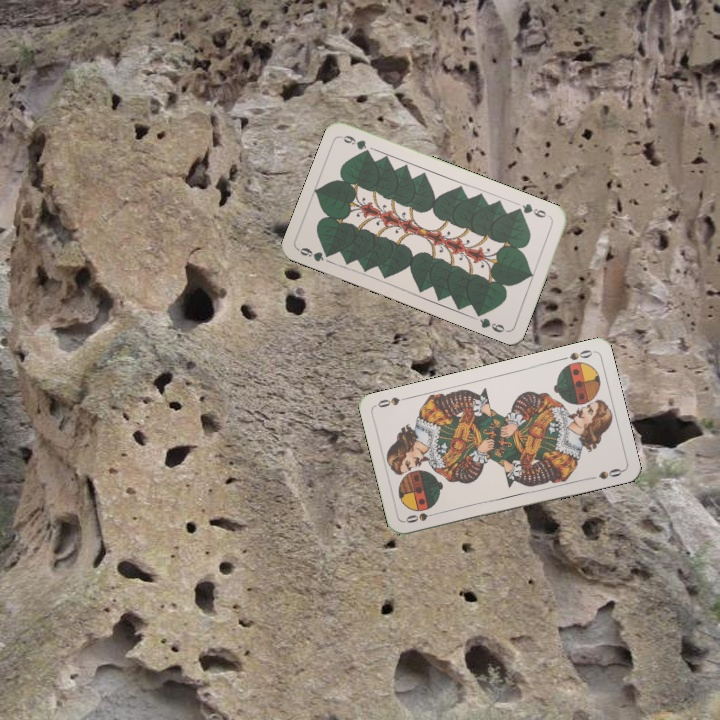G9: (512, 199, 553, 220), (294, 243, 335, 264)
SO: (401, 508, 442, 526), (556, 346, 595, 363)
